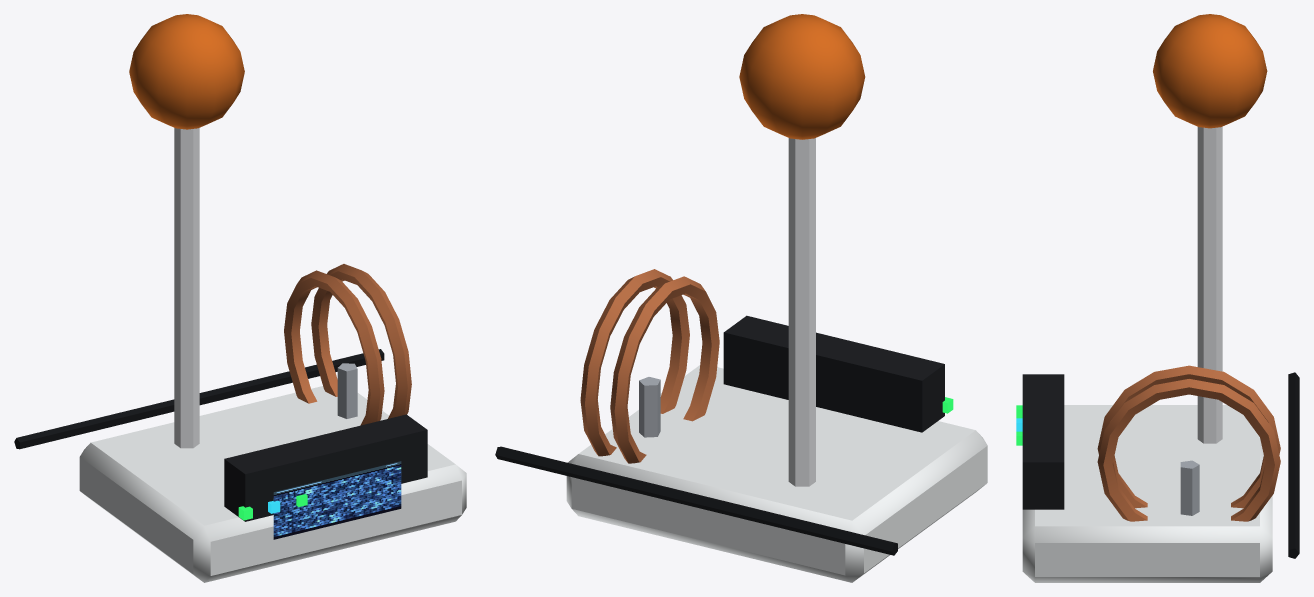
The model's file is sciinstrument_magnetometer.glb.
3 views of the same model, side by side, from view 1: azimuth 30°, elevation 25°; view 2: azimuth 150°, elevation 25°; view 3: azimuth 270°, elevation 25° (orthographic). The views are drawn at different scales.
Visible parts, largest first — view 1: sciinstrument_magnetometer; view 2: sciinstrument_magnetometer; view 3: sciinstrument_magnetometer.
Boxes of the visible parts, box(x1,y1,x2,y2) form: sciinstrument_magnetometer: box(14, 14, 466, 582); sciinstrument_magnetometer: box(495, 14, 987, 582); sciinstrument_magnetometer: box(1016, 14, 1299, 582).
Size of the model in its own units: 0.4 by 0.505 by 0.272.
Materials: 10 (1 with a texture image).
